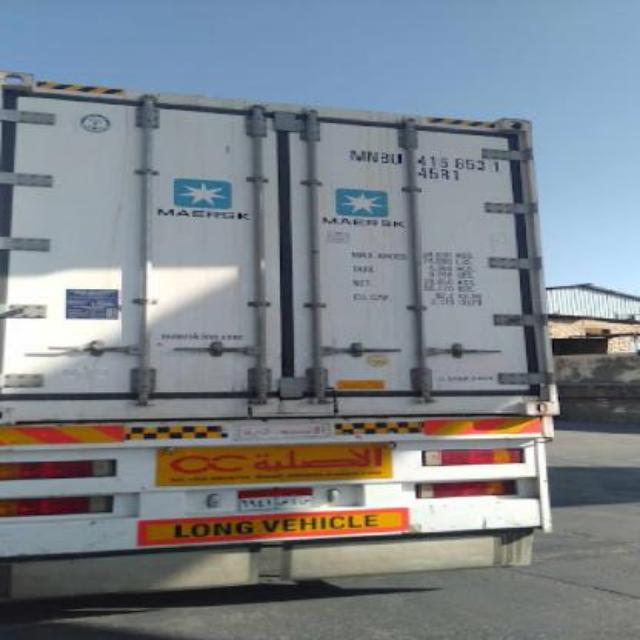1: (424, 151, 440, 167), (488, 160, 504, 176)
3: (478, 155, 490, 175)
4: (410, 151, 428, 167)
5: (464, 151, 476, 177)
6: (440, 154, 452, 170)
8: (452, 153, 464, 171)
B: (382, 144, 392, 170)
M: (344, 145, 364, 165)
N: (362, 144, 380, 166)
U: (392, 150, 402, 168)
